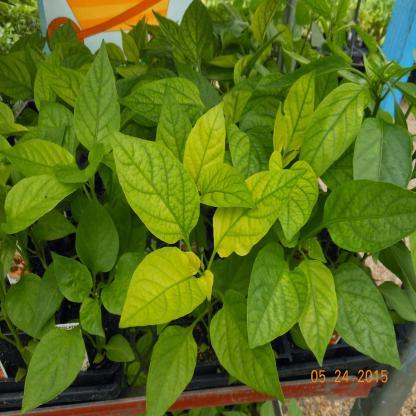Bell_pepper leaf spot: (106, 124, 199, 249), (209, 287, 286, 407), (212, 168, 300, 258), (120, 247, 216, 328), (321, 180, 416, 254), (298, 82, 369, 178), (247, 242, 308, 348), (20, 324, 85, 416), (72, 37, 119, 156), (292, 257, 338, 367), (143, 324, 198, 416), (6, 174, 86, 230), (118, 80, 204, 132), (1, 136, 84, 188), (181, 101, 227, 190), (274, 70, 316, 158), (155, 80, 202, 158), (78, 194, 119, 283), (226, 119, 272, 178)
